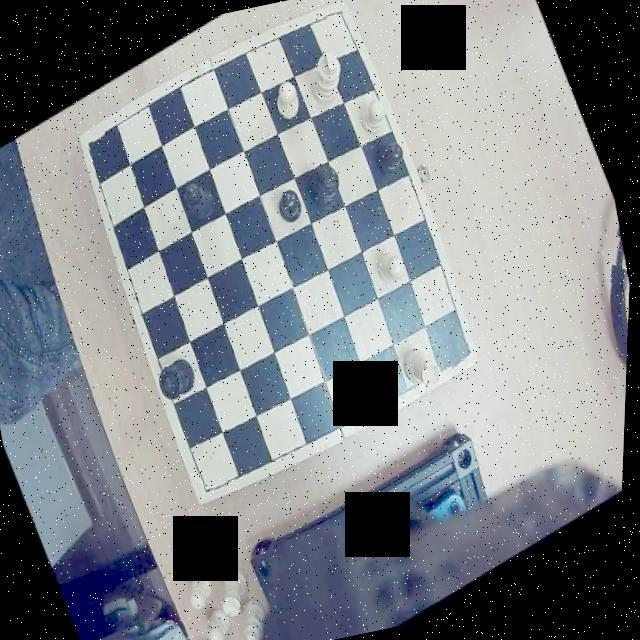chess-table-corners: (193, 460, 236, 504), (442, 329, 484, 374), (76, 125, 115, 166), (320, 0, 355, 35)
